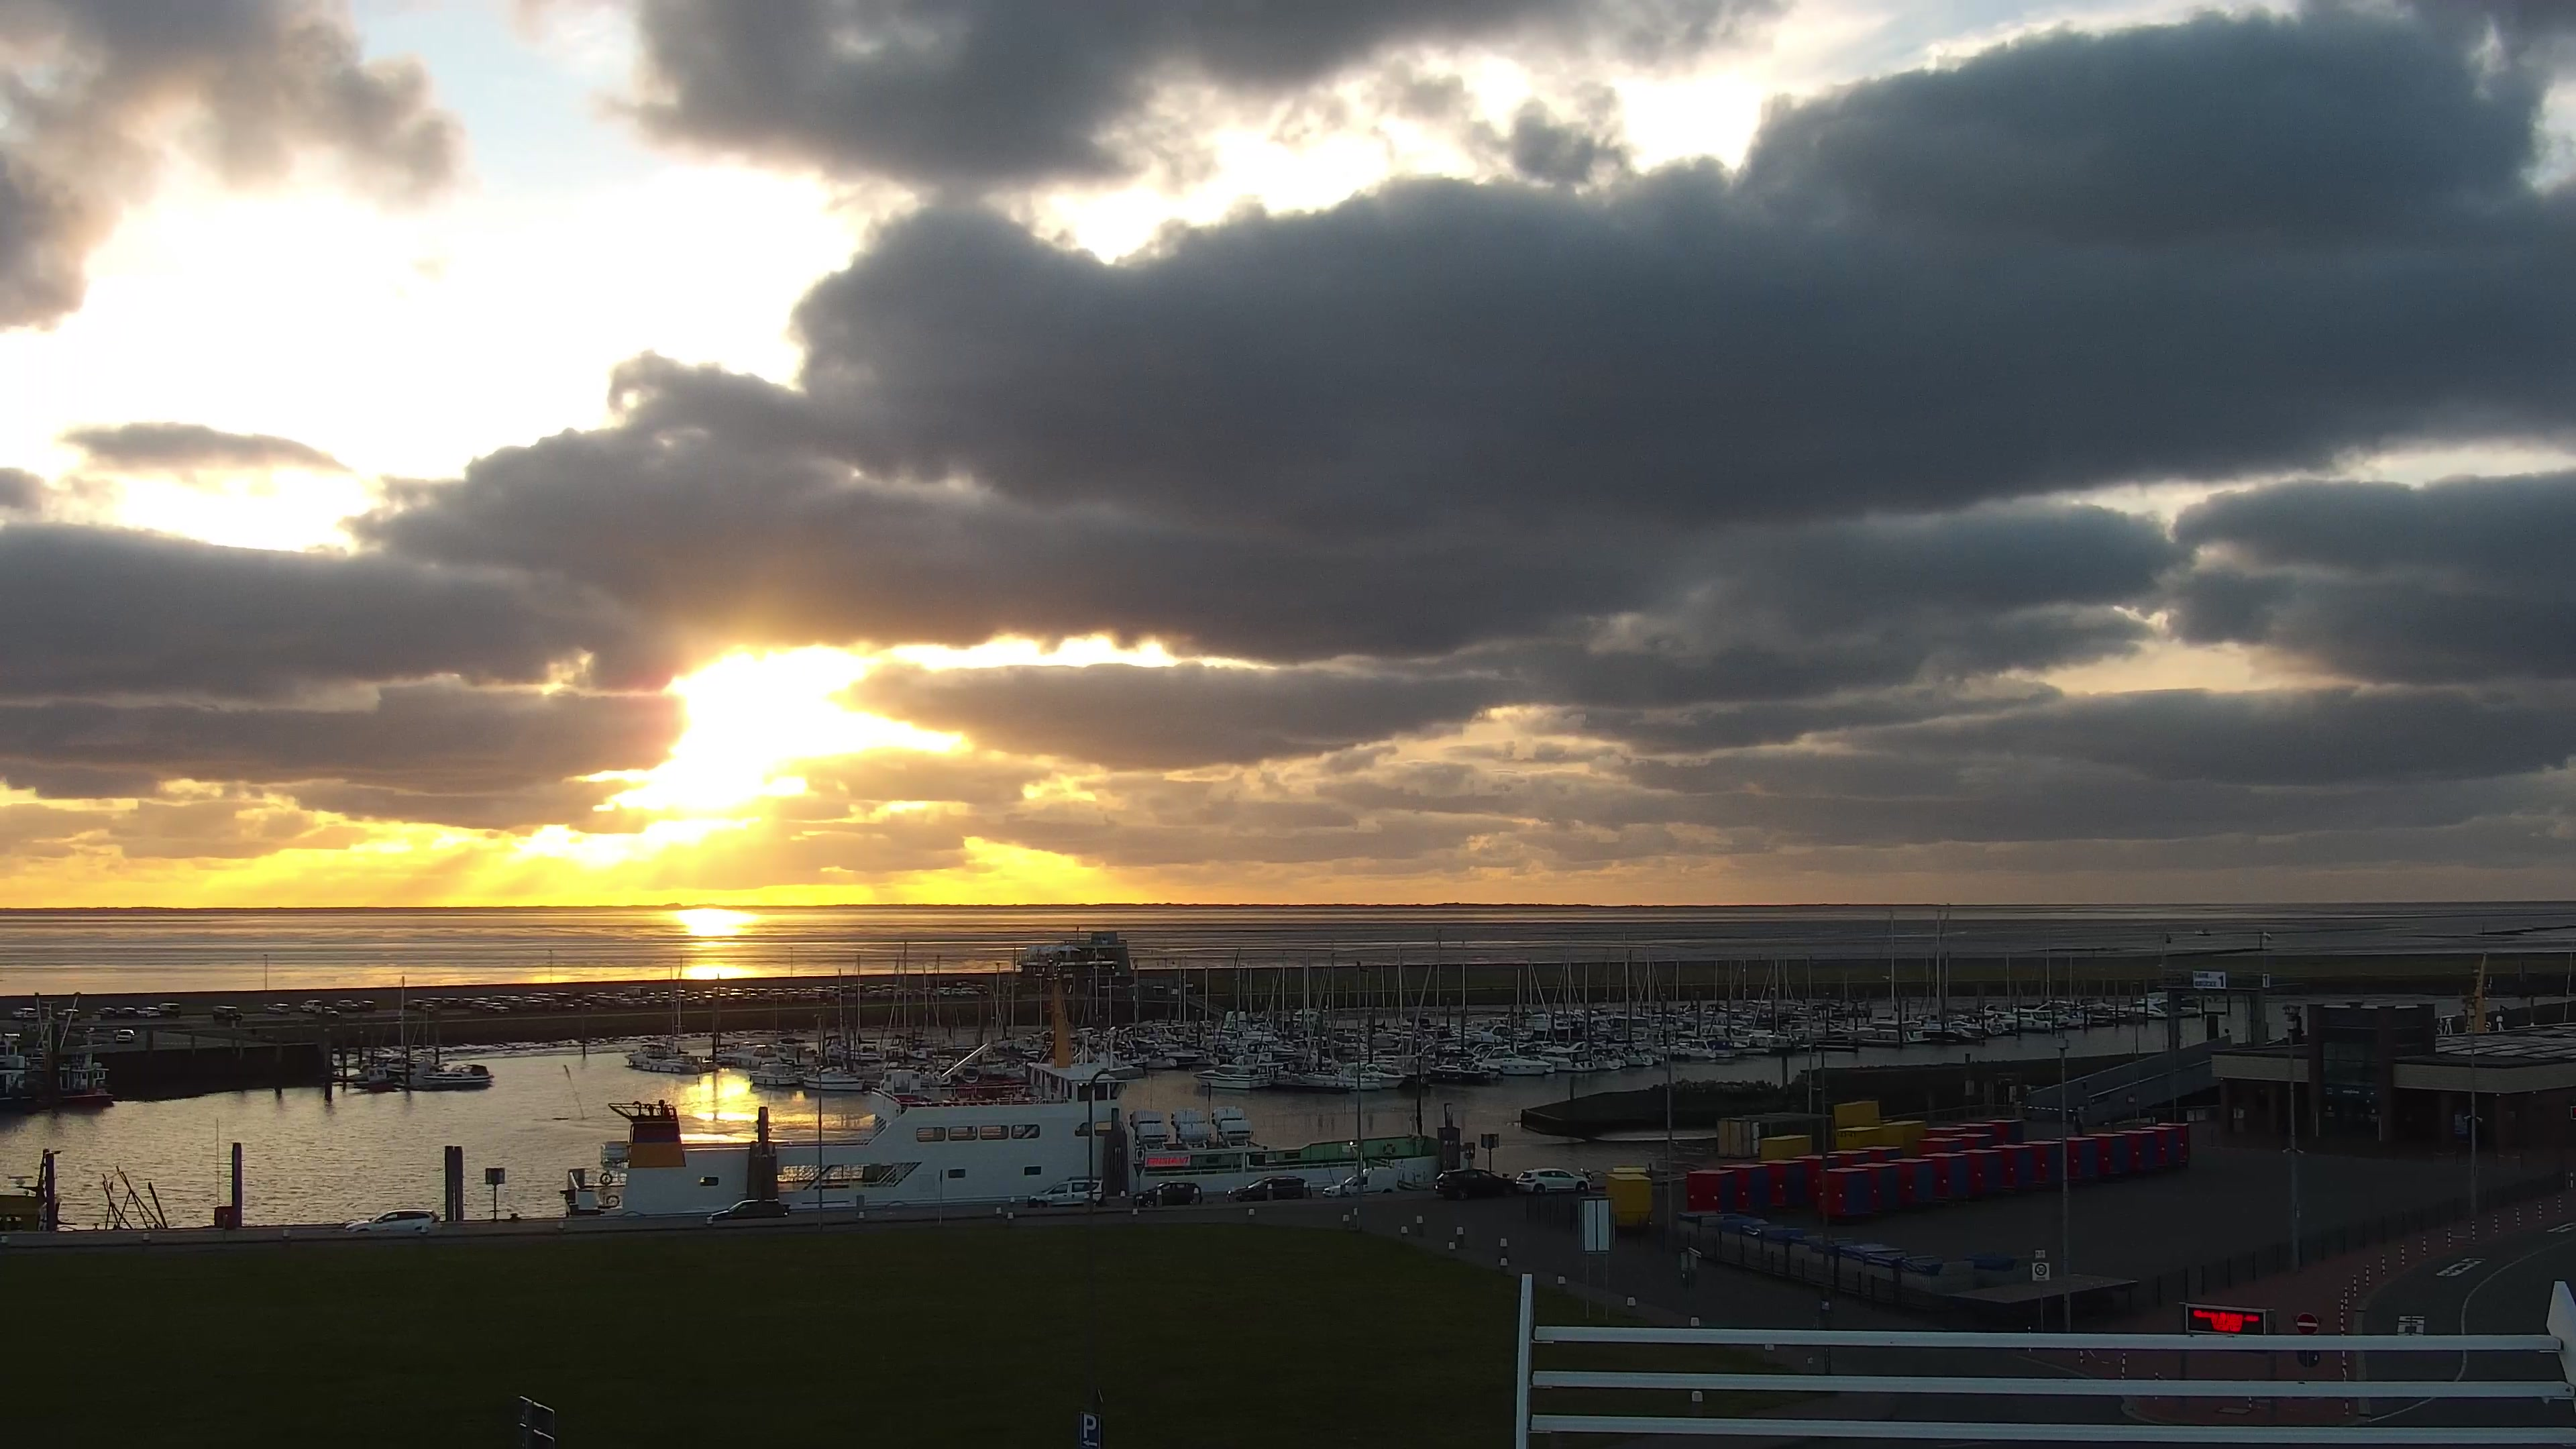land: (1433, 1166, 1514, 1200), (345, 1207, 441, 1233), (1322, 1164, 1396, 1198), (1028, 1177, 1106, 1208), (1224, 1175, 1313, 1201), (1514, 1168, 1591, 1194), (708, 1196, 789, 1219), (1134, 1180, 1203, 1207), (211, 1003, 242, 1023), (586, 993, 619, 1008), (11, 1007, 41, 1021), (157, 1003, 182, 1019), (315, 1005, 340, 1019), (469, 1000, 494, 1014), (115, 1028, 136, 1044), (299, 1000, 322, 1014), (92, 1005, 117, 1017), (136, 1007, 161, 1019), (573, 998, 594, 1012), (57, 1008, 80, 1021), (267, 1003, 290, 1016), (336, 1000, 359, 1012), (487, 1001, 510, 1014), (356, 1000, 377, 1012), (403, 1000, 425, 1012), (616, 991, 633, 1005), (117, 1007, 136, 1019), (525, 998, 545, 1010), (529, 991, 550, 1001), (770, 985, 786, 1000), (508, 994, 525, 1007), (557, 998, 575, 1010), (895, 987, 913, 1000), (492, 994, 511, 1005), (552, 991, 571, 1001), (745, 993, 764, 1003), (800, 991, 819, 1001), (959, 985, 978, 996), (786, 985, 800, 1000), (458, 996, 474, 1008), (975, 982, 991, 994), (441, 998, 458, 1008), (702, 989, 717, 1001), (731, 987, 745, 1000), (755, 987, 770, 1000), (955, 980, 975, 989), (717, 993, 732, 1003), (819, 989, 835, 1000), (950, 985, 966, 996), (810, 984, 828, 993), (879, 982, 897, 991), (430, 996, 442, 1008), (688, 989, 701, 1001), (674, 989, 688, 1000), (839, 984, 853, 994), (936, 985, 950, 996), (881, 989, 895, 1000), (658, 991, 671, 1001), (683, 996, 695, 1007), (826, 985, 840, 994), (646, 991, 656, 1001), (653, 998, 663, 1008), (867, 985, 879, 994), (860, 982, 867, 993)
sea: (557, 961, 1444, 1215), (1849, 902, 1921, 1047), (872, 938, 936, 1067), (0, 993, 55, 1104), (372, 975, 428, 1070), (1734, 955, 1792, 1047), (865, 954, 913, 1060), (58, 1024, 117, 1104), (621, 1039, 704, 1074), (1297, 1062, 1384, 1093), (1192, 1060, 1274, 1092), (1339, 1058, 1408, 1092), (711, 1039, 784, 1070), (1474, 1044, 1550, 1074), (1529, 1040, 1596, 1072), (801, 1063, 867, 1093), (421, 1063, 490, 1086), (747, 1060, 800, 1088), (1674, 1037, 1734, 1058), (2107, 996, 2167, 1017), (352, 1067, 400, 1092), (2010, 1007, 2051, 1030), (1614, 1044, 1654, 1065), (2051, 1008, 2091, 1030), (1589, 1047, 1624, 1069), (1426, 1062, 1472, 1074), (2194, 927, 2212, 936)
